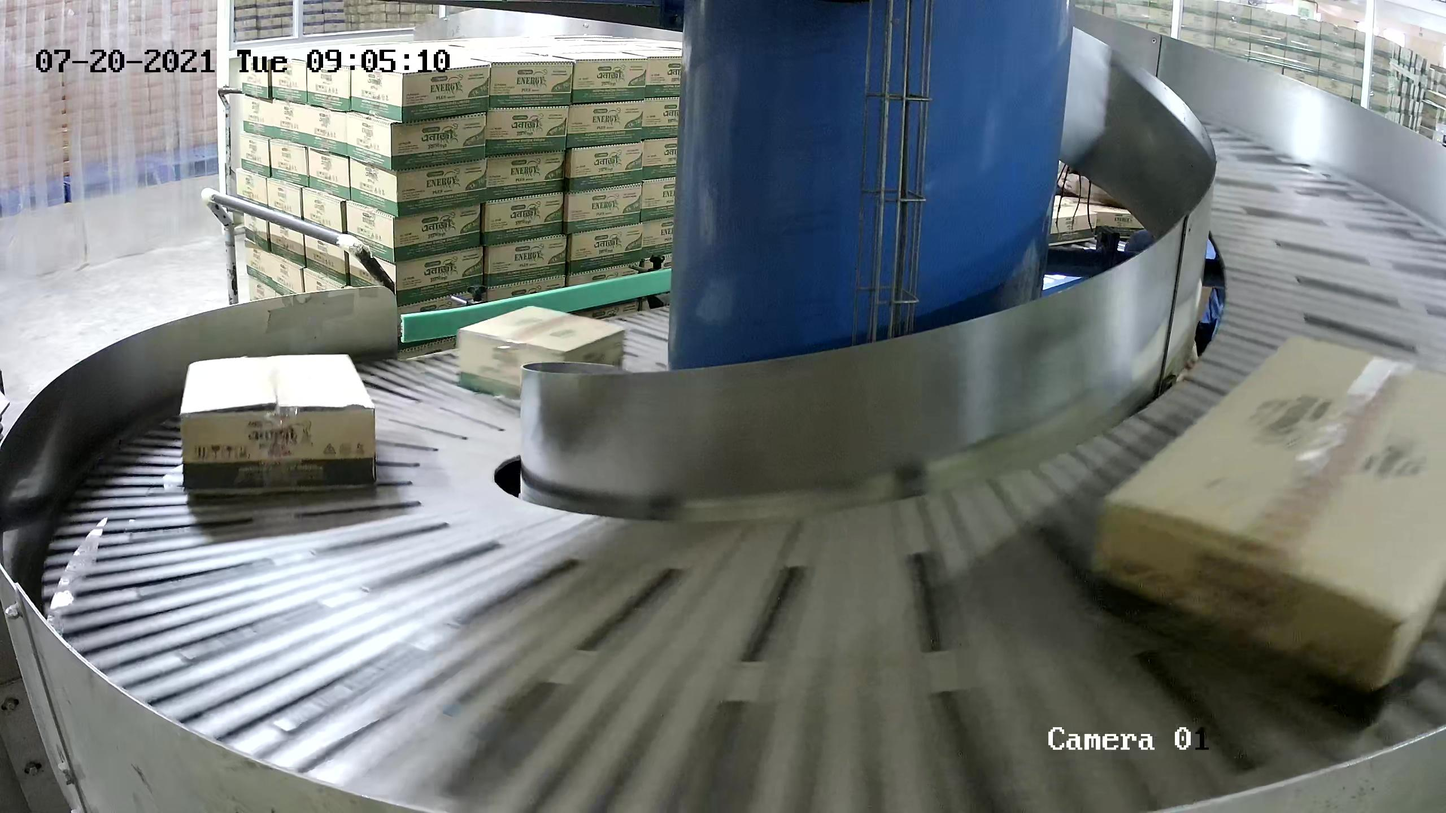Box: (1096, 328, 1446, 732), (179, 351, 380, 496), (456, 303, 627, 400)
